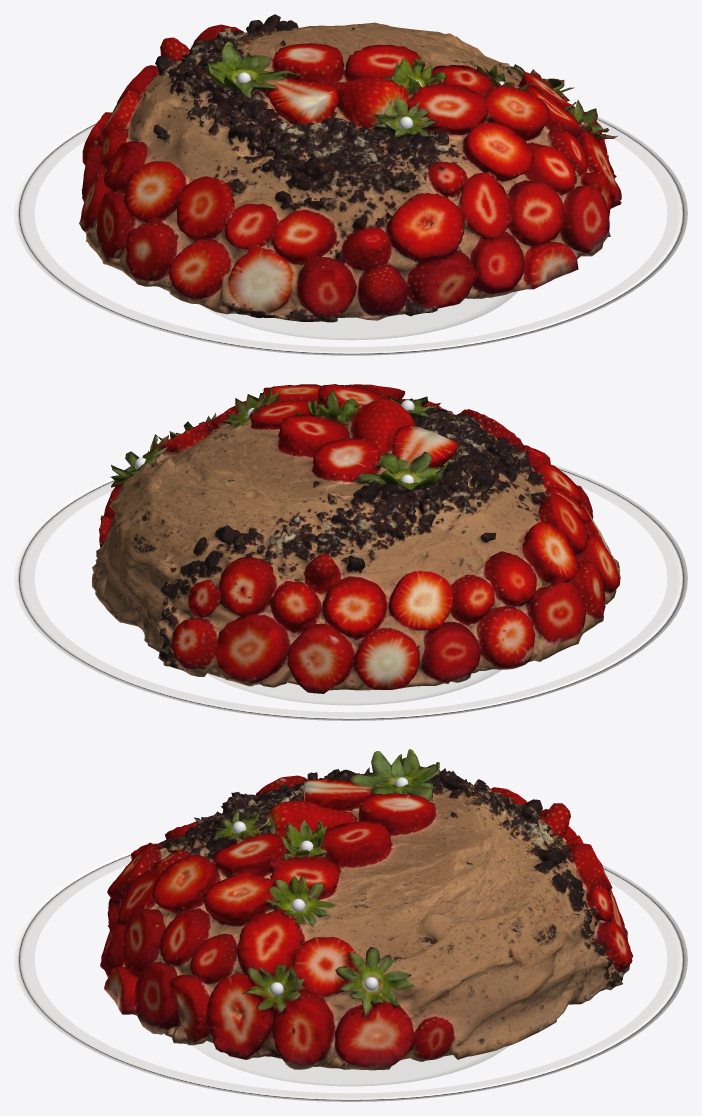
The model's file is strawberry-chocolate-cake-plated.glb.
3 renders of one model, top to bottom at view 1: azimuth 30°, elevation 25°; view 2: azimuth 150°, elevation 25°; view 3: azimuth 270°, elevation 25°, orthographic.
Visible parts, largest first — view 1: strawberry_chocolate_cake, porcelain-plate; view 2: strawberry_chocolate_cake, porcelain-plate; view 3: strawberry_chocolate_cake, porcelain-plate.
Boxes of the visible parts, x1,y1,x2,y2 form: strawberry_chocolate_cake: (79, 14, 621, 322); porcelain-plate: (14, 107, 687, 355); strawberry_chocolate_cake: (92, 384, 620, 693); porcelain-plate: (14, 464, 687, 720); strawberry_chocolate_cake: (100, 749, 632, 1070); porcelain-plate: (14, 842, 687, 1101).
Bounding box in the file's own units: 0.3038 × 0.1092 × 0.3038.
2 materials, 1 textured.
